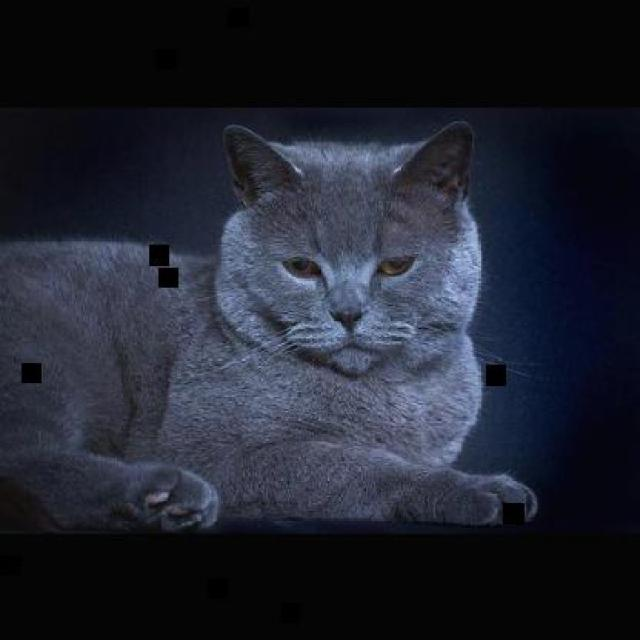unauthorized: (0, 118, 538, 533)
